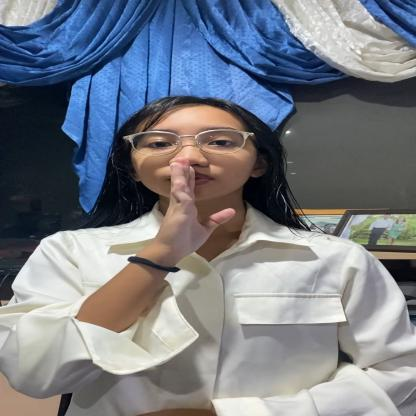Talk: (108, 91, 297, 265)
